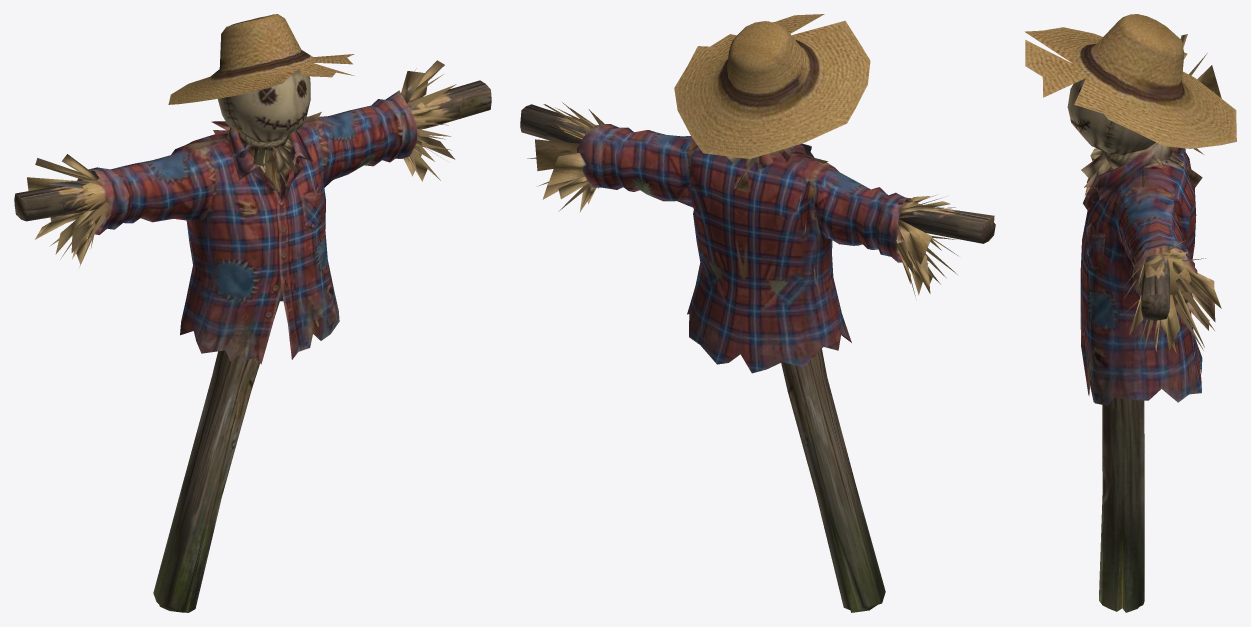
File: scarecrow.glb
3 renders of one model, left to right at view 1: azimuth 30°, elevation 25°; view 2: azimuth 150°, elevation 25°; view 3: azimuth 270°, elevation 25°, orthographic. The views are drawn at different scales.
Bounding box in the file's own units: 0.8154 × 0.9526 × 0.2885.
1 material, 1 textured.
